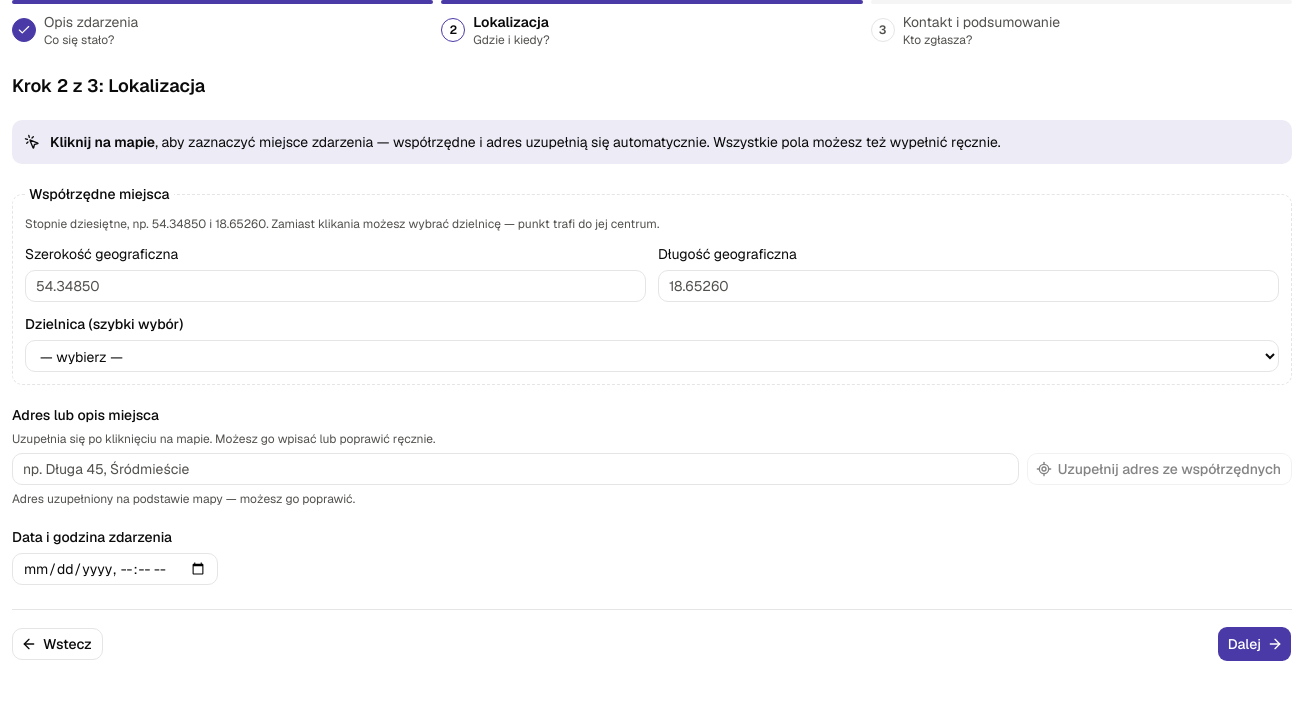
Test: IncidentForm › reports missing coordinates and focuses the latitude field
Click the button "Dalej": (1254, 644) left=1217, top=626, right=1292, bottom=662
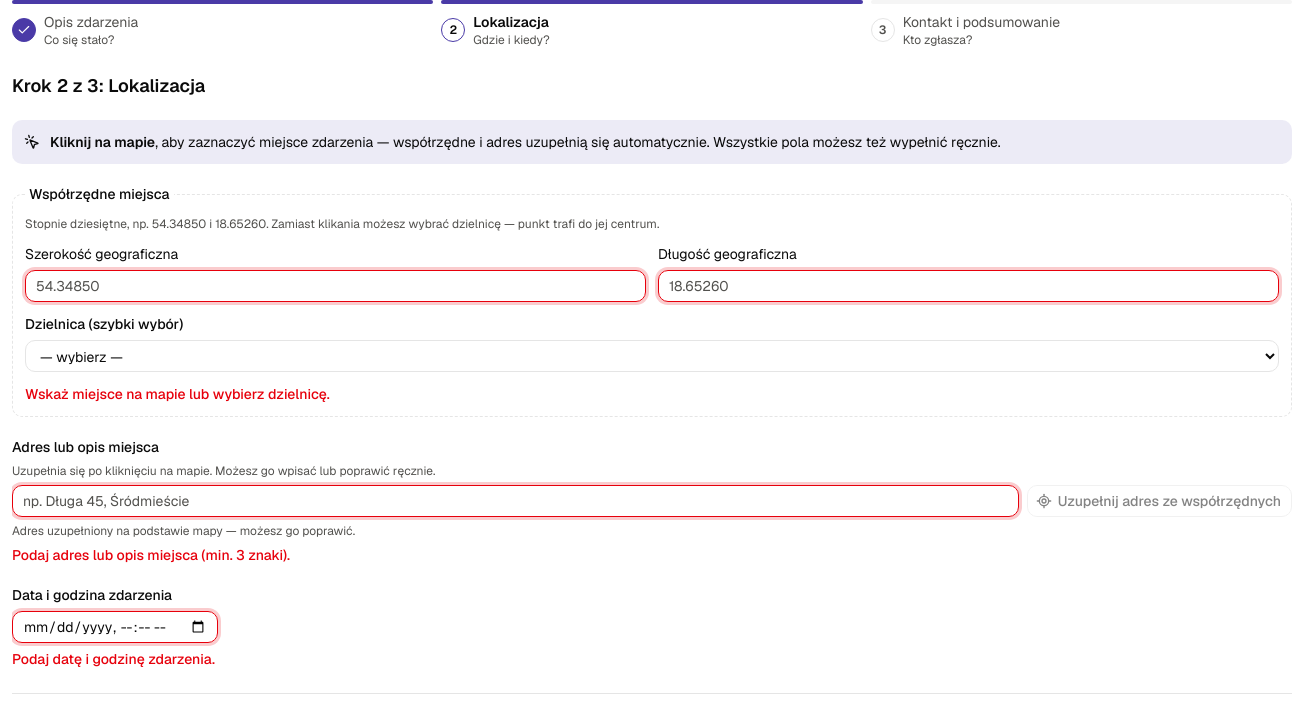
Check: the text "Wskaż miejsce na mapie lub wybierz dzielnicę." is shown, box left=25, top=385, right=330, bottom=403
